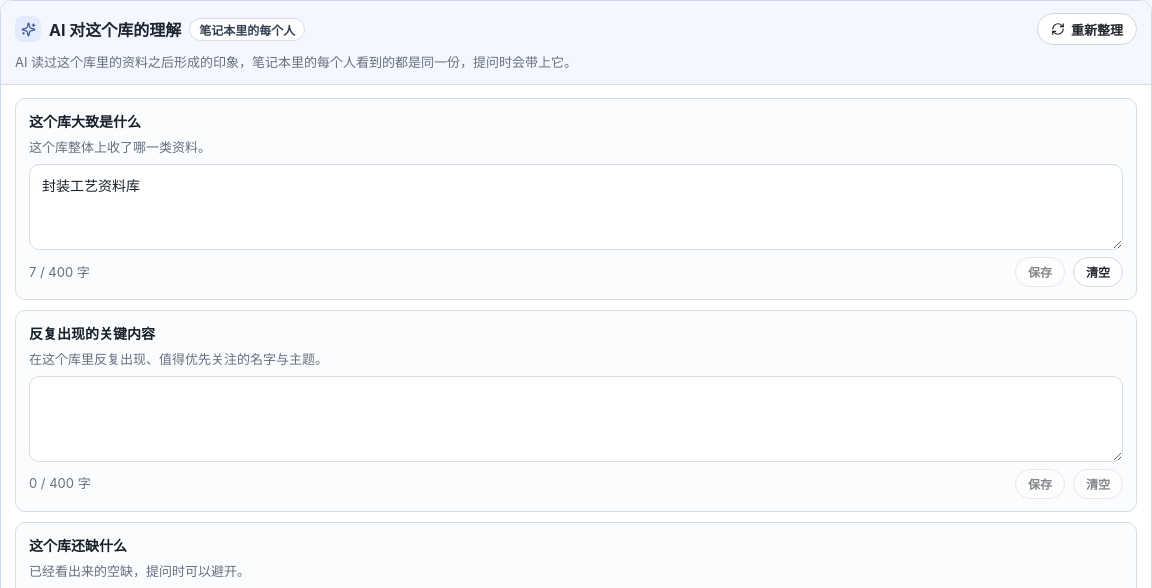
Test case: 保存在飞时继续打字：草稿不会被吃掉，且落进陈旧提示而不是被静默覆盖
In the text box named "这个库大致是什么": coordinates (576, 207) [29,164,1123,250], type "A"
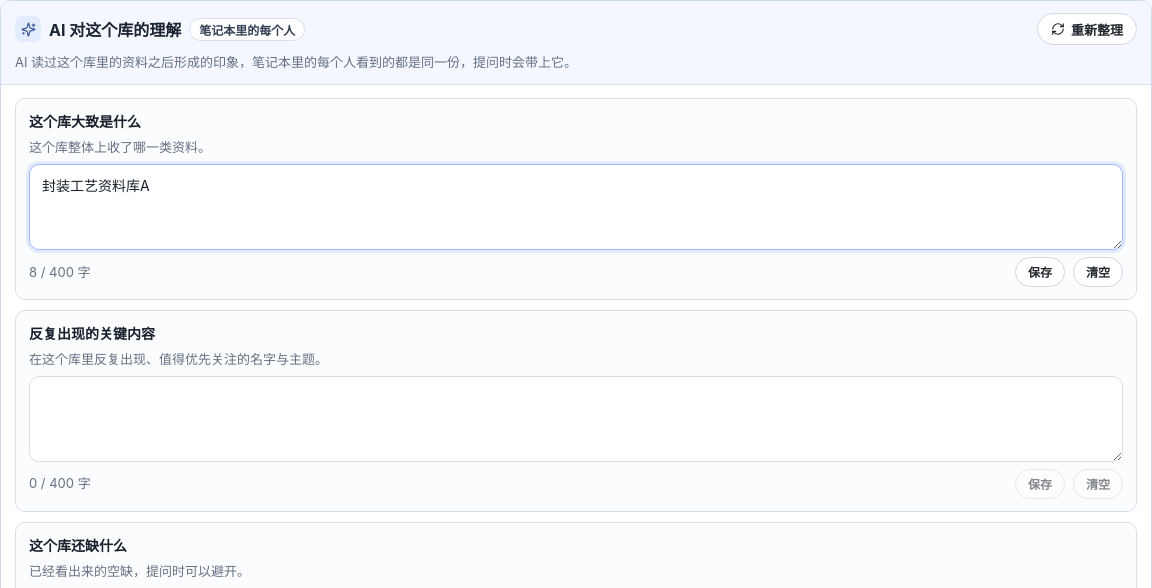
Click the 1st button "保存": coordinates (1040, 272) [1015,257,1065,287]
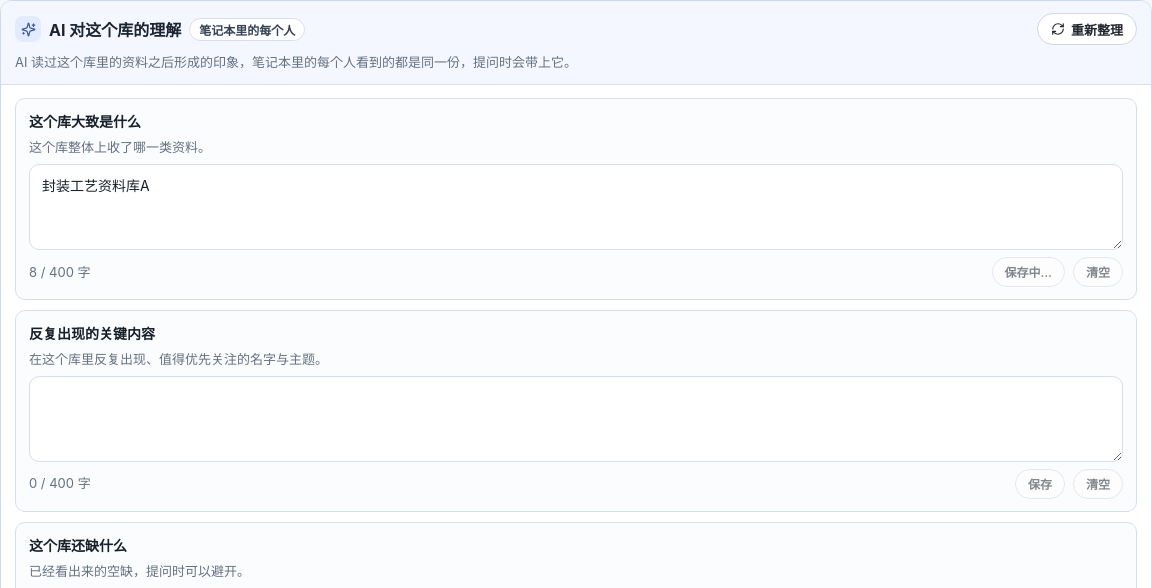
保存还在飞的时候继续打字。
In the text box named "这个库大致是什么": coordinates (576, 207) [29,164,1123,250], type "B"
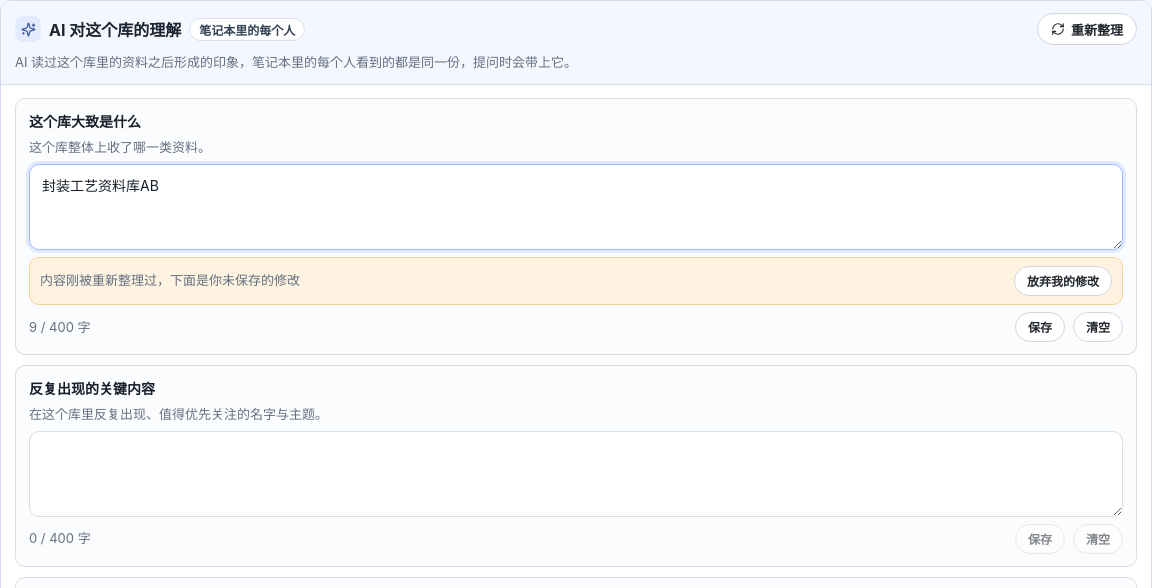
Expected: the text box named "这个库大致是什么" holds "封装工艺资料库AB", [29,164,1123,250]
Expected: the message shows "内容刚被重新整理过", [40,272,300,288]
